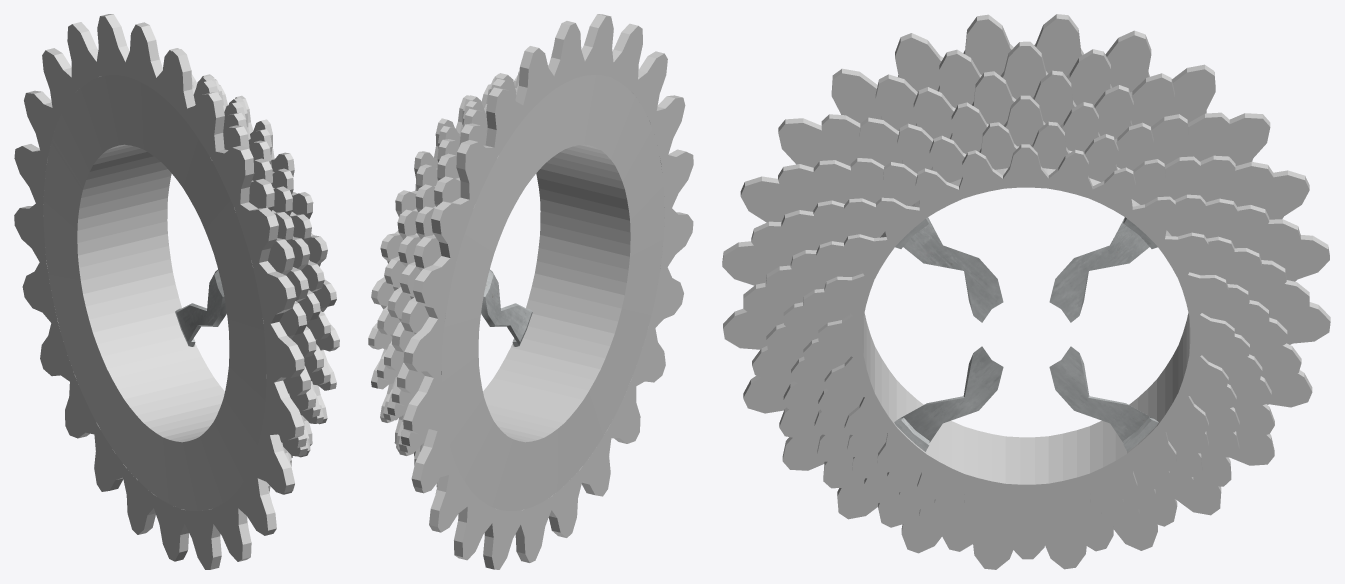
Rendered from Catraca traseira.glb.
3 renders of one model, left to right at view 1: azimuth 30°, elevation 25°; view 2: azimuth 150°, elevation 25°; view 3: azimuth 270°, elevation 25°, orthographic. The views are drawn at different scales.
Visible parts, largest first — view 1: Catraca traseira; view 2: Catraca traseira; view 3: Catraca traseira.
Part boxes in pixels (box(x1,y1,x2,y2)): Catraca traseira: box(14, 14, 339, 569); Catraca traseira: box(368, 14, 693, 569); Catraca traseira: box(722, 14, 1330, 569).
Size of the model in its own units: 0.0223 by 0.1207 by 0.1207.
Materials: 2 (1 with a texture image).
